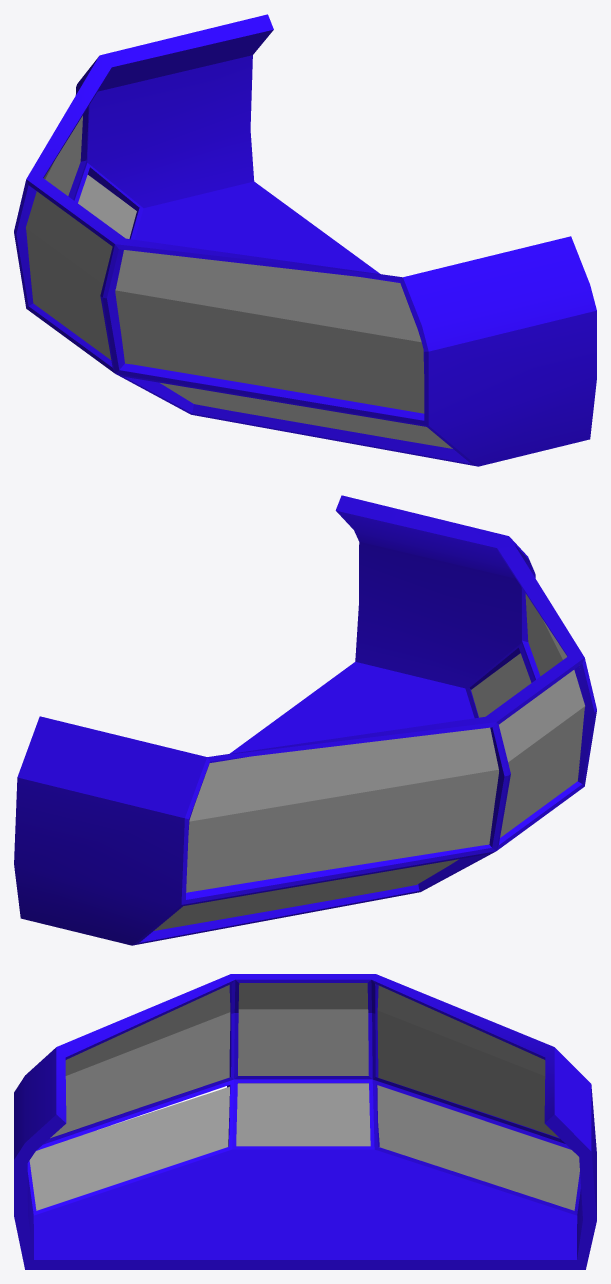
Rendered from Cabine.FBX.
3 views of the same model, one above another, from view 1: azimuth 30°, elevation 25°; view 2: azimuth 150°, elevation 25°; view 3: azimuth 270°, elevation 25° (orthographic). The views are drawn at different scales.
Parts seen in each view (by area): view 1: Box008; view 2: Box008; view 3: Box008.
Part boxes in pixels (left/top/right/bottom): Box008: left=14, top=14, right=596, bottom=466; Box008: left=14, top=495, right=596, bottom=945; Box008: left=14, top=974, right=596, bottom=1269.
Size of the model in its own units: 736 by 367 by 1249.
